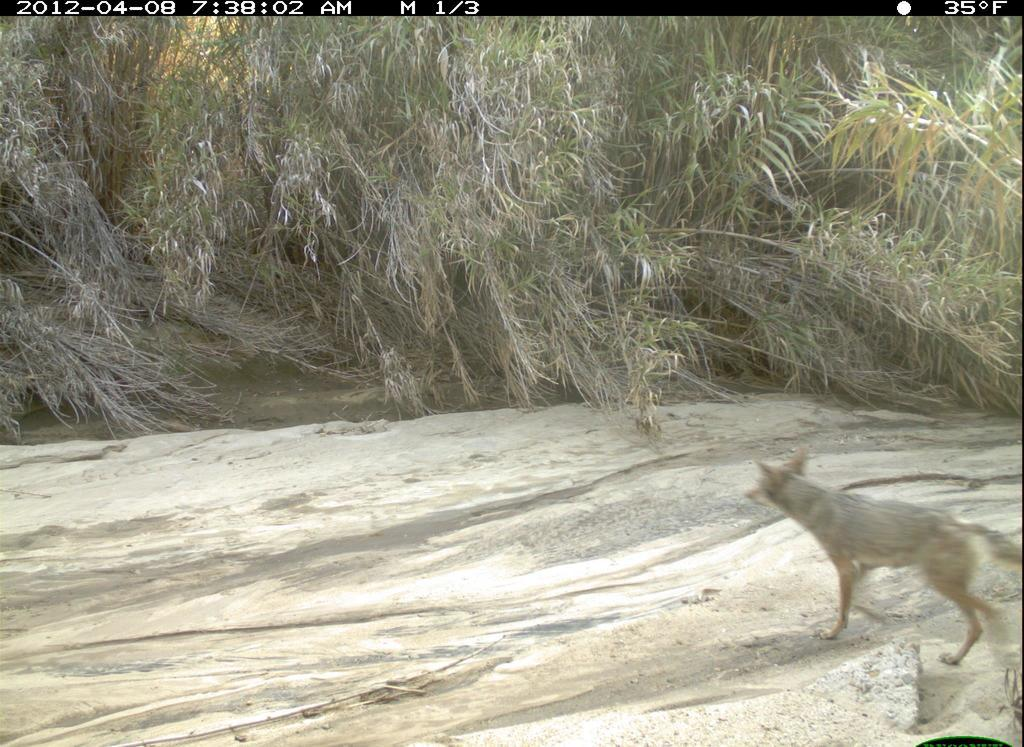coyote: (744, 446, 1023, 674)
